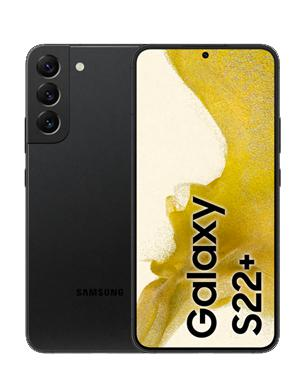Smartphone: (138, 42, 274, 351), (35, 43, 133, 351)
